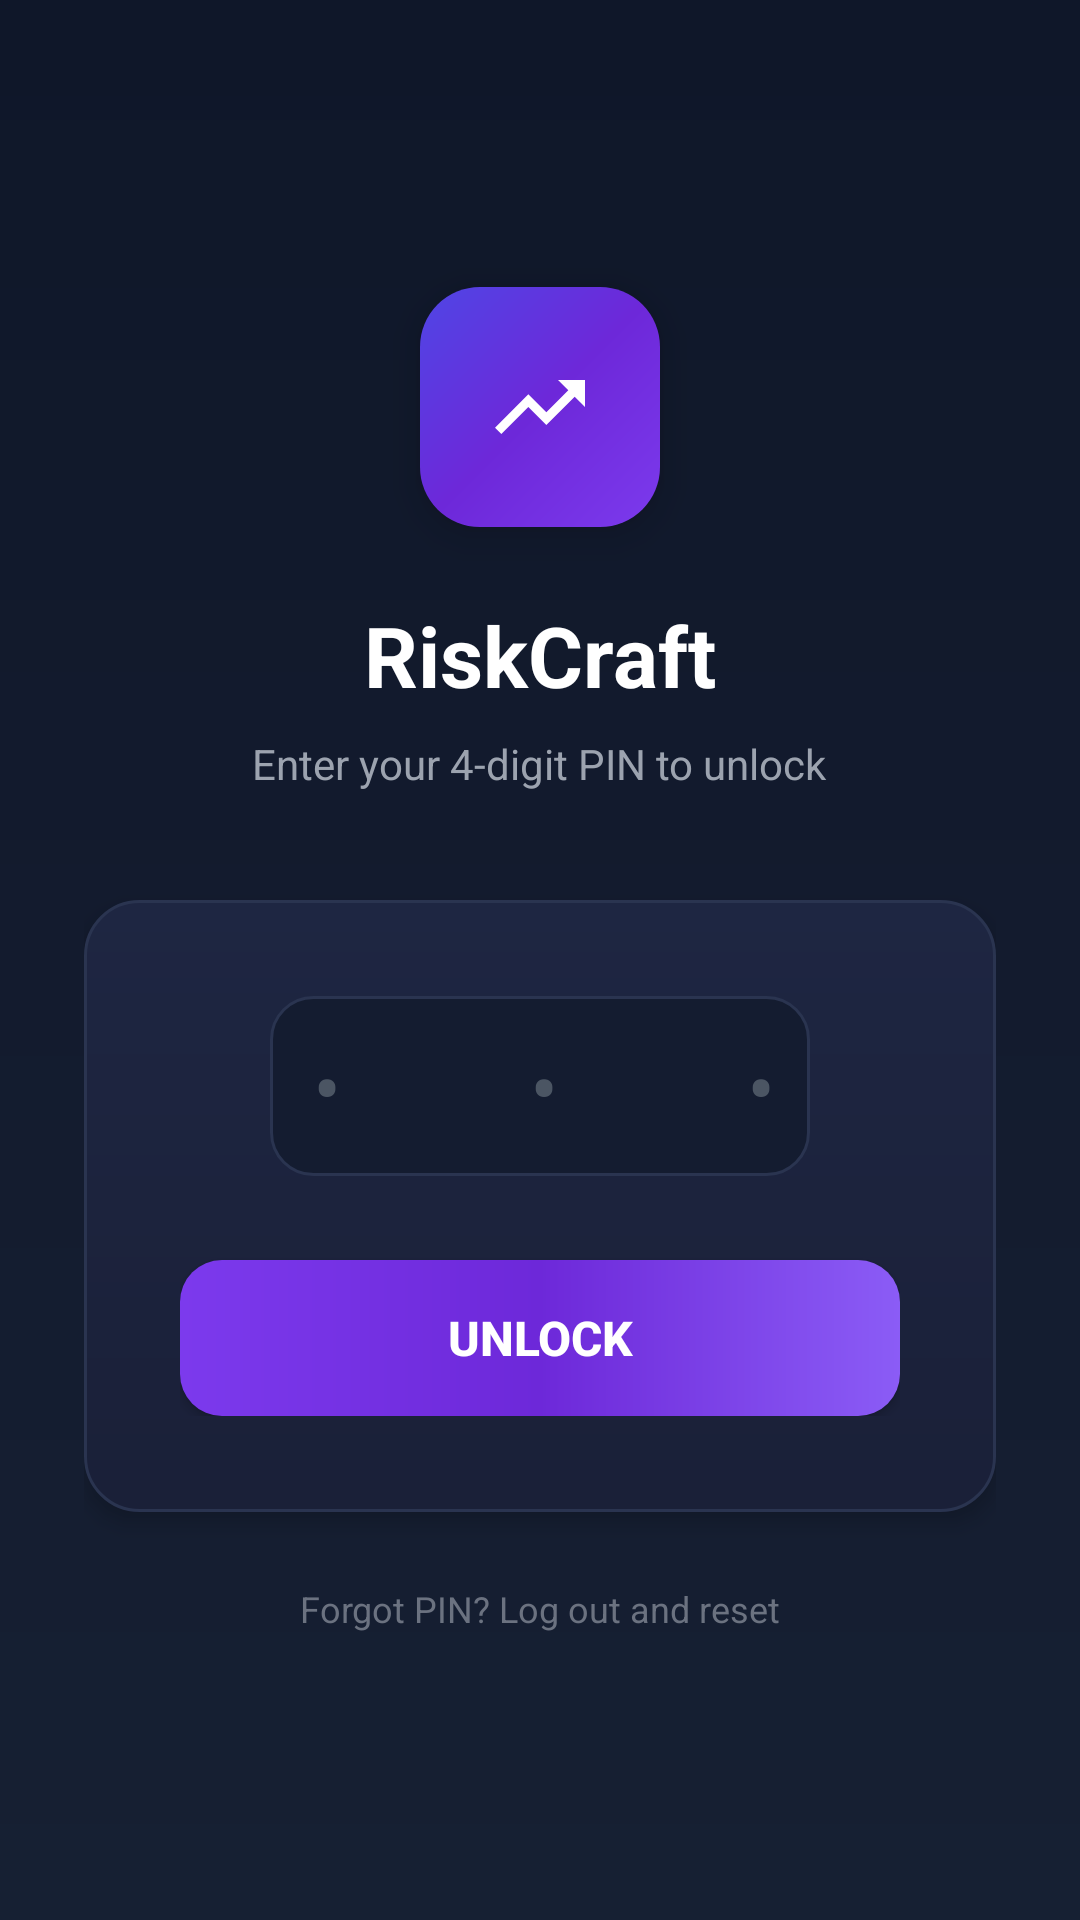

Icon click points for this 1080x1920 phone screenshot, format (x,y):
chart: (540,407)
